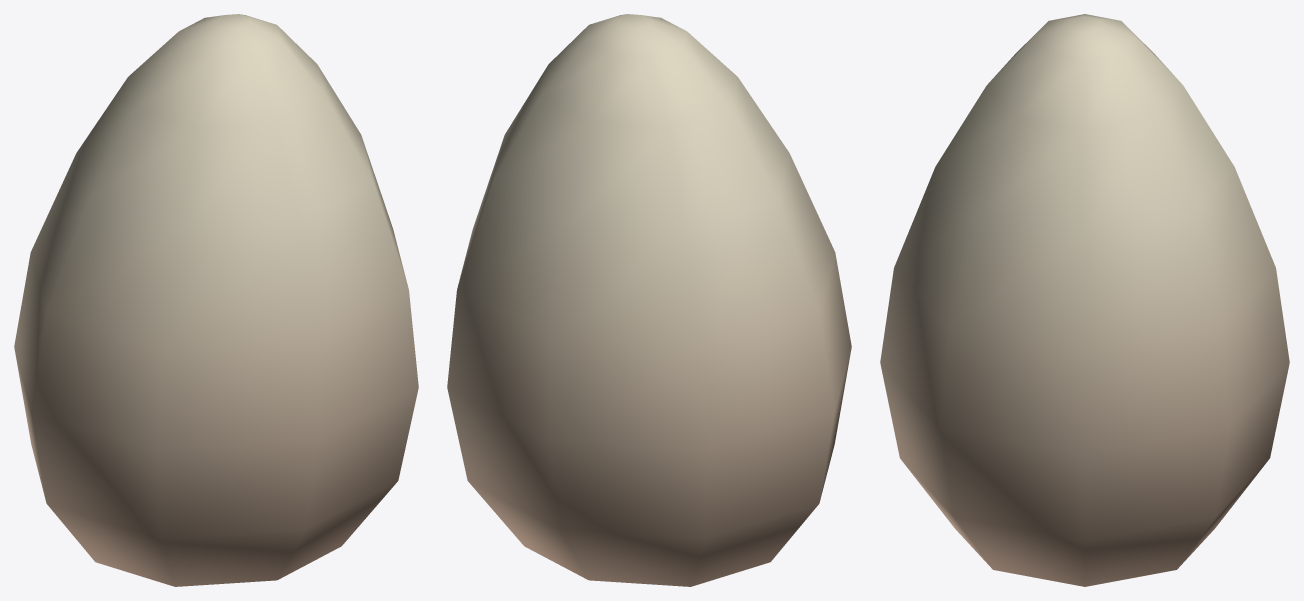
File: egg.glb
3 renders of one model, left to right at view 1: azimuth 30°, elevation 25°; view 2: azimuth 150°, elevation 25°; view 3: azimuth 270°, elevation 25°, orthographic.
Parts seen in each view (by area): view 1: Egg; view 2: Egg; view 3: Egg.
Part boxes in pixels (left/top/right/bottom): Egg: left=14, top=14, right=418, bottom=586; Egg: left=447, top=14, right=851, bottom=586; Egg: left=880, top=14, right=1289, bottom=586.
Size of the model in its own units: 0.11 by 0.15 by 0.104.
